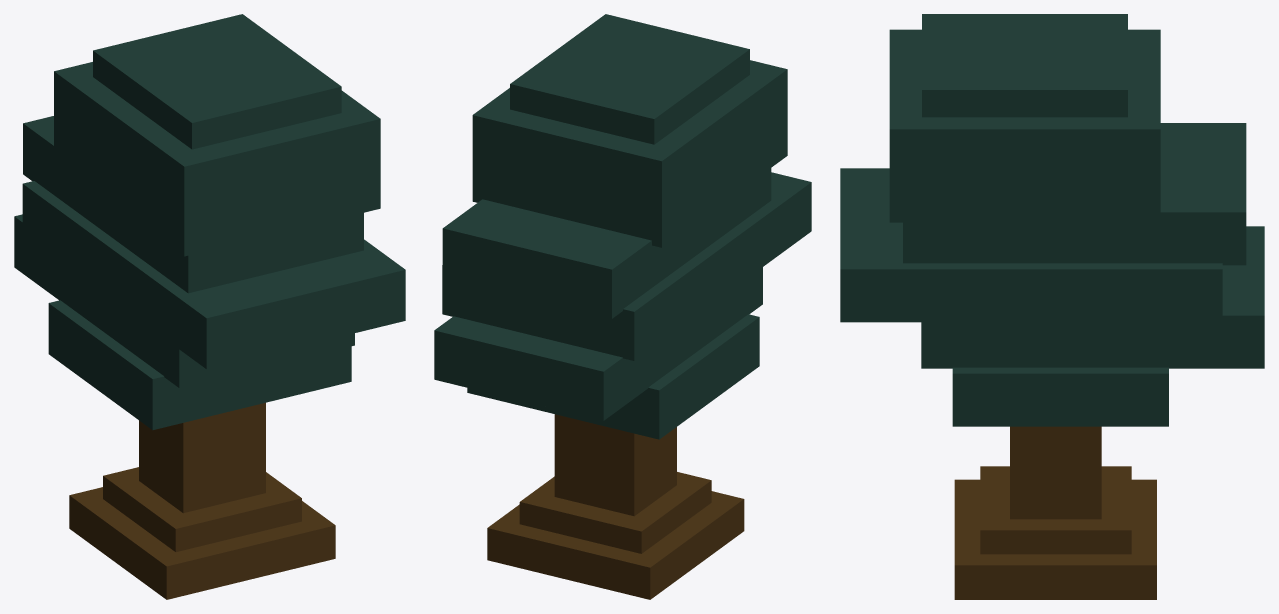
The model's file is Arvore Verde Escuro.fbx.
3 renders of one model, left to right at view 1: azimuth 30°, elevation 25°; view 2: azimuth 150°, elevation 25°; view 3: azimuth 270°, elevation 25°, orthographic. The views are drawn at different scales.
Parts seen in each view (by area): view 1: Cube.001; view 2: Cube.001; view 3: Cube.001.
Boxes of the visible parts, bbox=[...] form: Cube.001: bbox=[14, 14, 405, 599]; Cube.001: bbox=[434, 14, 811, 599]; Cube.001: bbox=[840, 14, 1264, 599].
Size of the model in its own units: 309 by 723 by 548.
